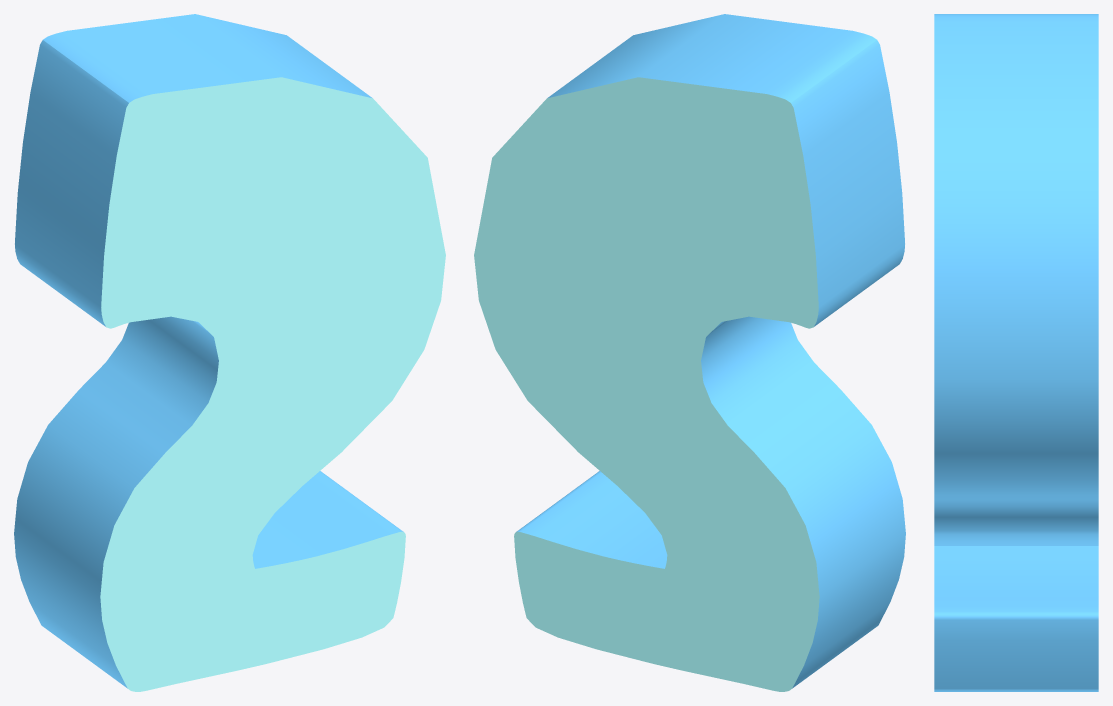
The picture shows the model from 3 angles, left to right: view 1: azimuth 30°, elevation 25°; view 2: azimuth 150°, elevation 25°; view 3: azimuth 270°, elevation 25°; orthographic projection. The views are drawn at different scales.
Parts seen in each view (by area): view 1: 2; view 2: 2; view 3: 2.
Boxes of the visible parts, box(x1,y1,x2,y2) form: 2: box(14, 14, 445, 691); 2: box(474, 14, 905, 691); 2: box(934, 14, 1098, 691).
Size of what is drawn, in the model's own units: 0.3697 by 0.6109 by 0.16.
